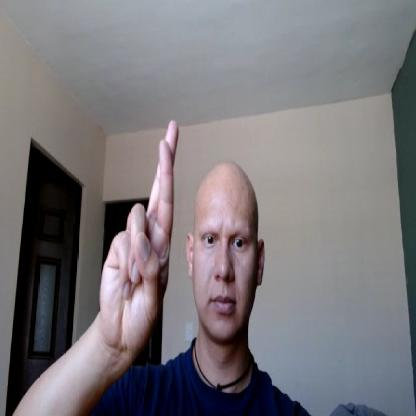R: (101, 118, 180, 352)
